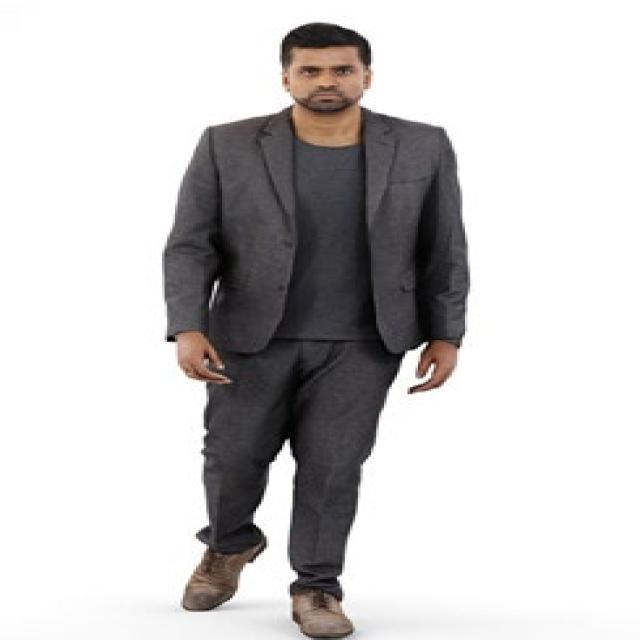standing: (154, 19, 481, 640)
